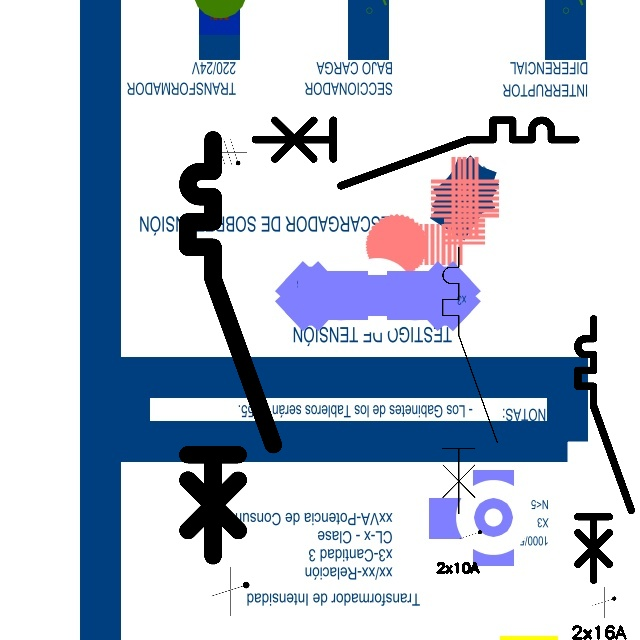interruptor_termomagnetico: (177, 129, 284, 566), (247, 112, 584, 194), (436, 240, 504, 520), (571, 312, 638, 586)
